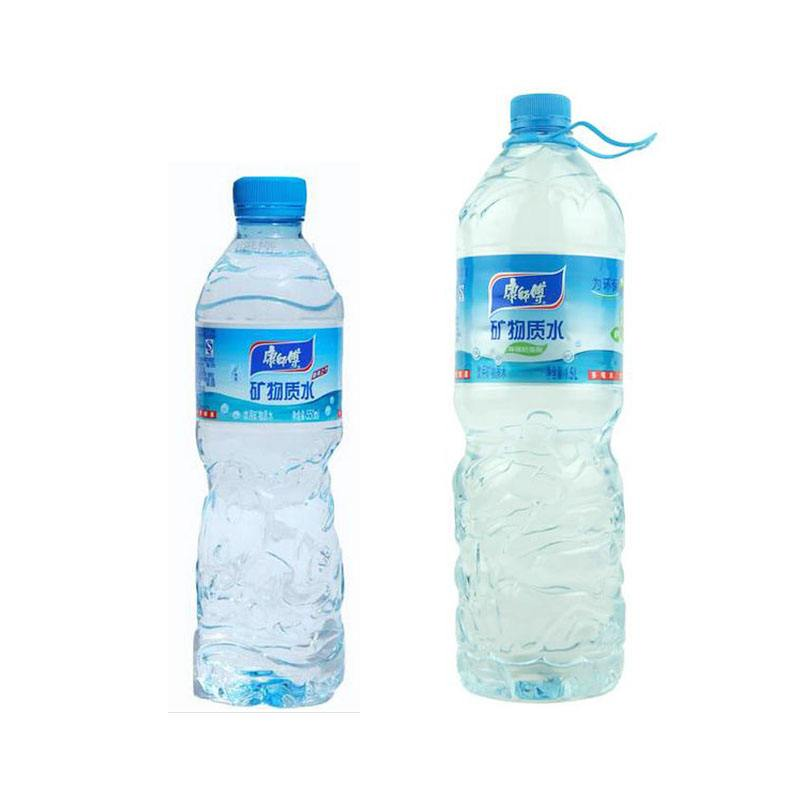amwater: (444, 53, 646, 719), (165, 149, 371, 732)
